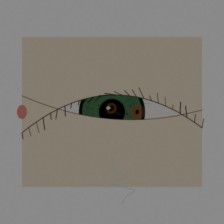foreign_body_visible: (126, 103, 148, 121)
